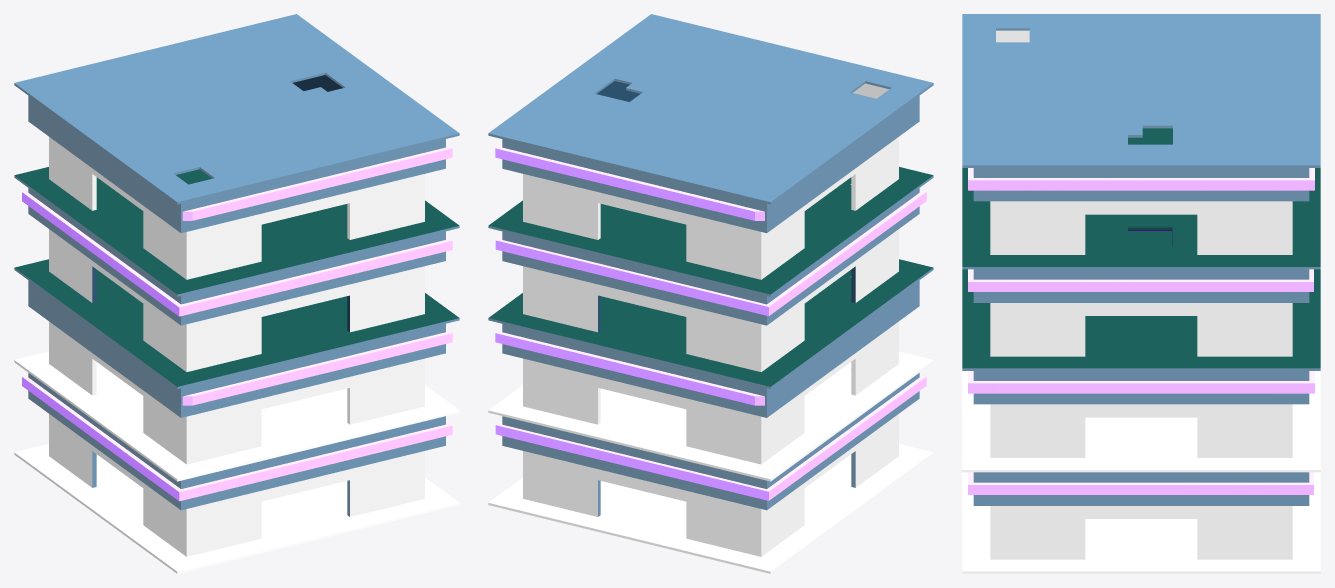
File: NewStudzArtcadeBuilding_8.gltf
3 views of the same model, side by side, from view 1: azimuth 30°, elevation 25°; view 2: azimuth 150°, elevation 25°; view 3: azimuth 270°, elevation 25° (orthographic). The views are drawn at different scales.
Visible parts, largest first — view 1: Wall Outline.035; view 2: Wall Outline.035; view 3: Wall Outline.035.
Boxes of the visible parts, x1,y1,x2,y2 form: Wall Outline.035: (14,14,459,573); Wall Outline.035: (488,14,933,573); Wall Outline.035: (962,14,1320,573).
Size of what is drawn, in the model's own units: 32 by 40.25 by 32.
